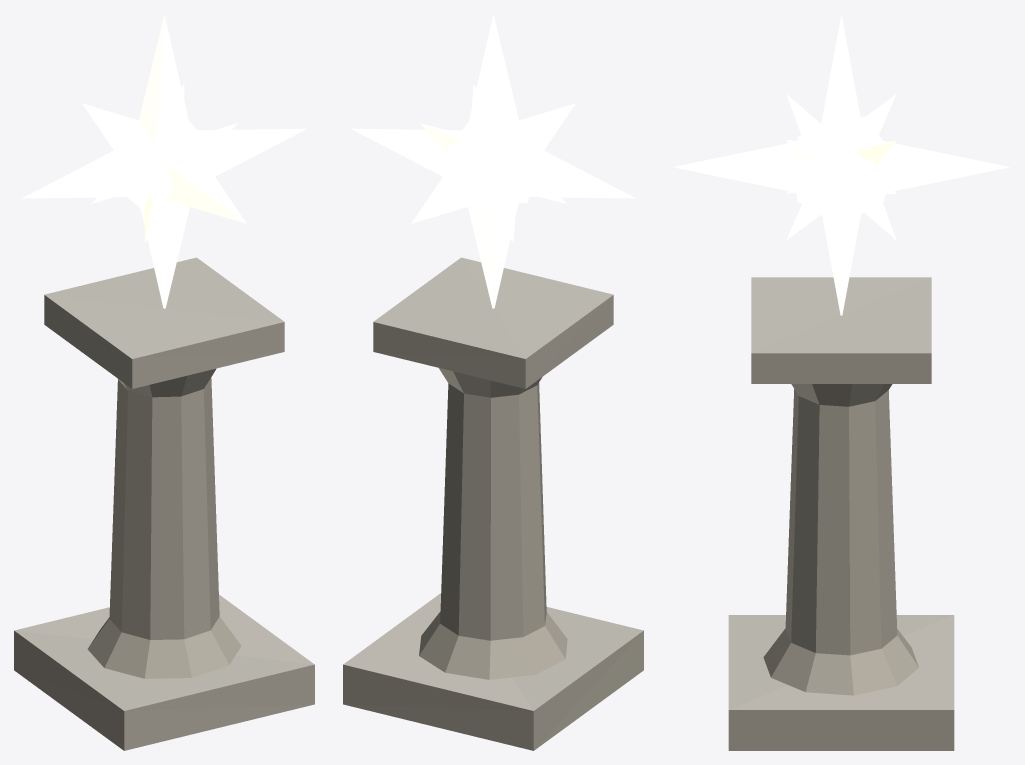
The model's file is morningstar.glb.
3 views of the same model, side by side, from view 1: azimuth 30°, elevation 25°; view 2: azimuth 150°, elevation 25°; view 3: azimuth 270°, elevation 25° (orthographic). The views are drawn at different scales.
Parts seen in each view (by area): view 1: base, star_m; view 2: base, star_m; view 3: base, star_m.
Part boxes in pixels (box(x1,y1,x2,y2)): base: box(14, 257, 314, 750); star_m: box(22, 14, 306, 308); base: box(343, 257, 643, 750); star_m: box(351, 14, 635, 308); base: box(728, 277, 954, 750); star_m: box(673, 14, 1009, 315).
Size of the model in its own units: 0.6 by 1.35 by 0.6.
